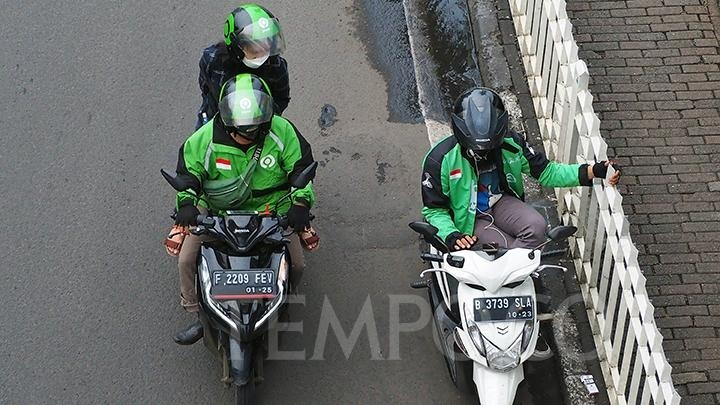plate: (214, 271, 275, 296), (473, 298, 532, 321)
